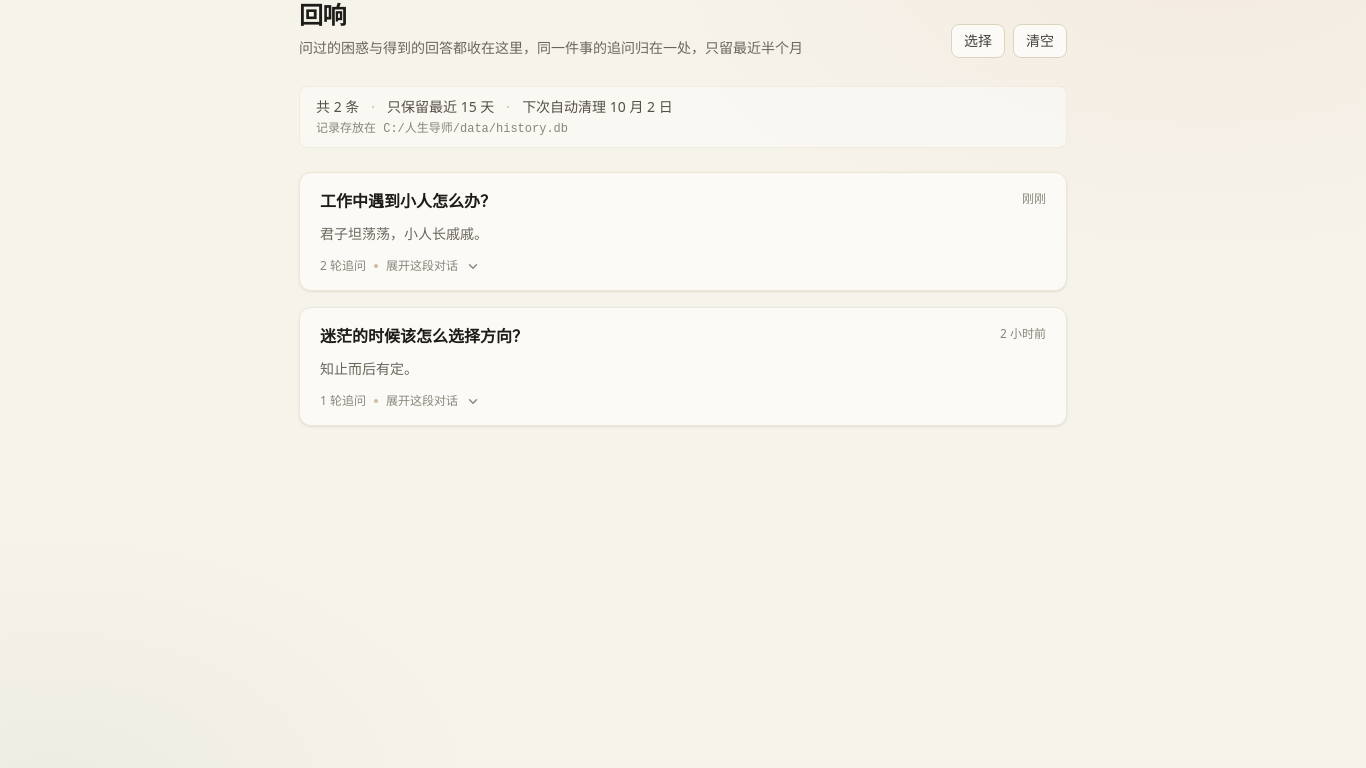
回响的勾选删除 › 删除前要确认，取消则不动
What coordinates should you click on to do the following:
click the button "选择"
I would click on:
 (978, 41)
Its box is top-left (951, 24), bottom-right (1005, 58).
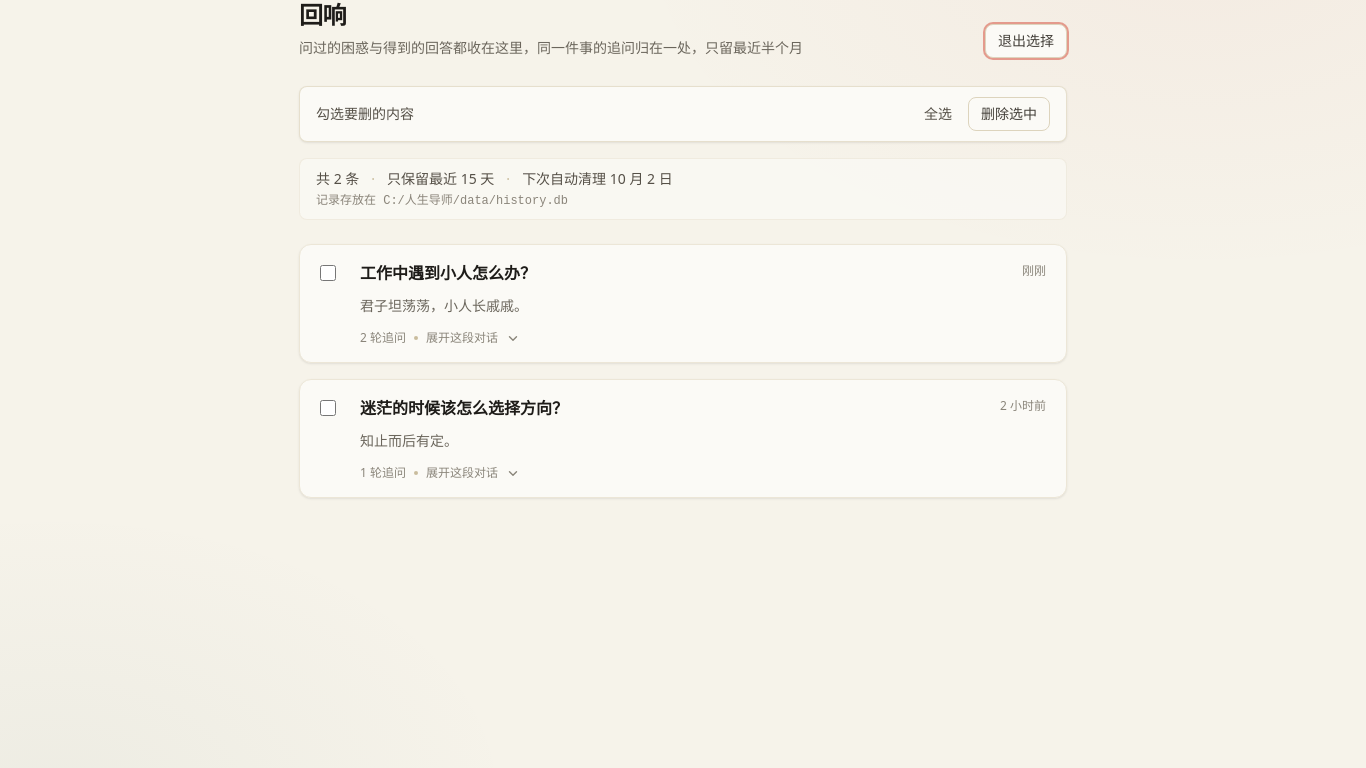
What coordinates should you click on to do the following:
click the checkbox named "勾选这段对话：工作中遇到小人怎么办？"
I would click on:
 (328, 273)
Its box is top-left (320, 265), bottom-right (336, 281).
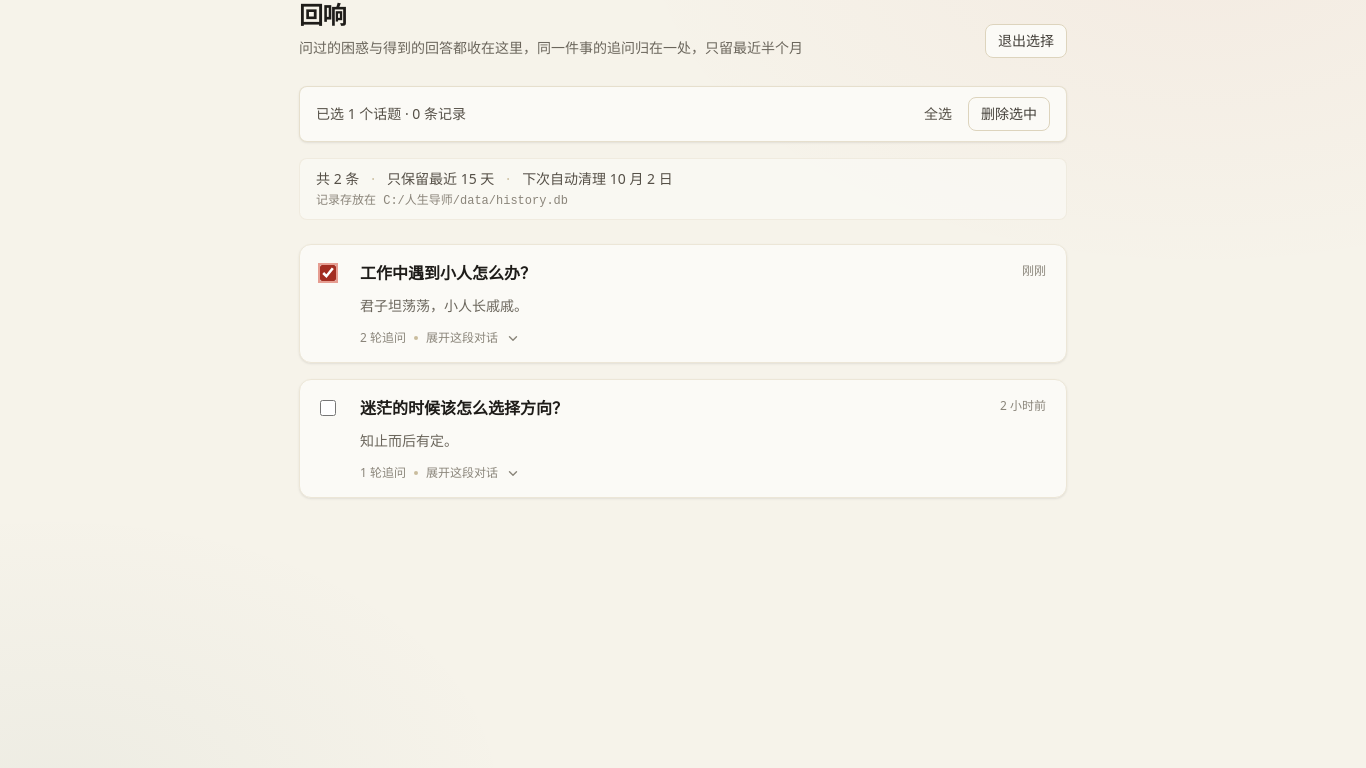
What coordinates should you click on to do the following:
click the button "删除选中"
I would click on:
 (1009, 114)
Its box is top-left (968, 97), bottom-right (1050, 131).
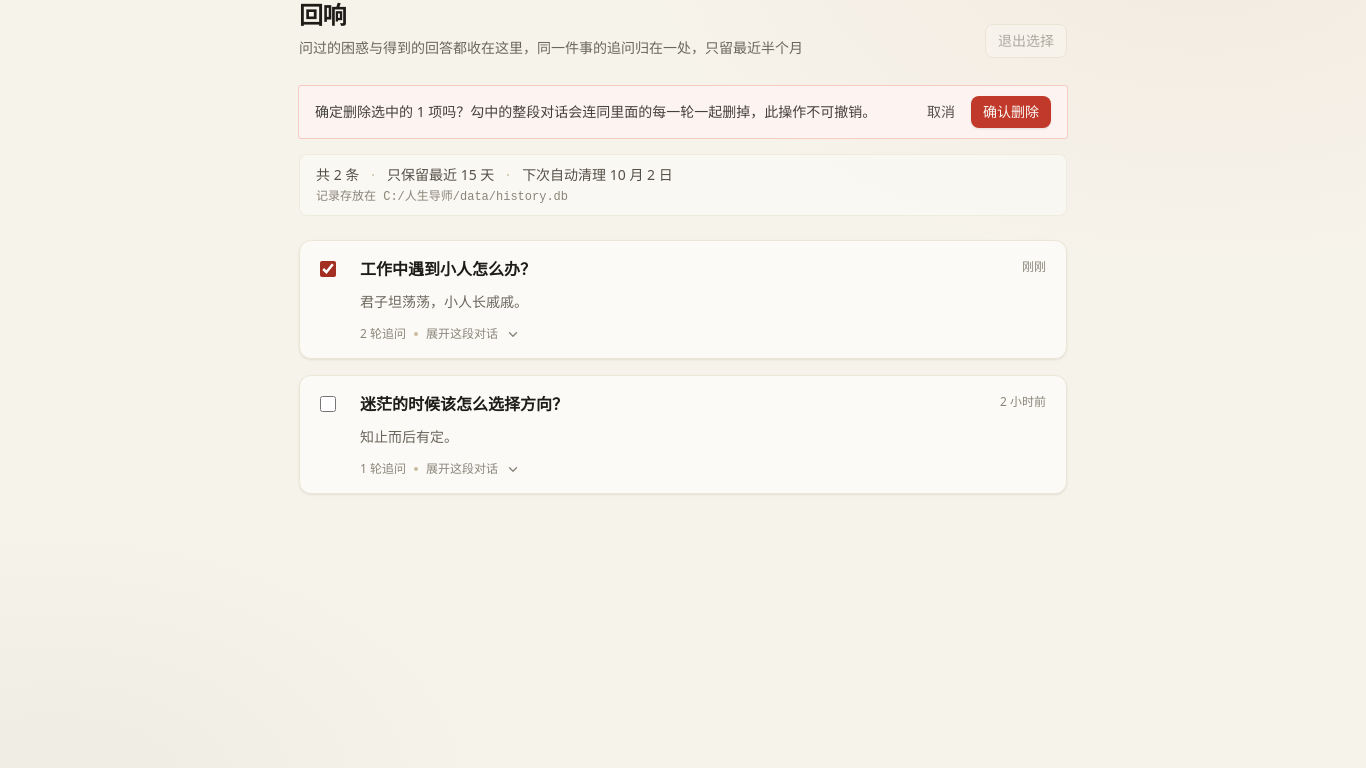
Expected: the dialog shows "确定删除选中的 1 项", top-left (315, 102), bottom-right (876, 121)
What coordinates should you click on to do the following:
click the button "取消"
I would click on:
 (941, 112)
Its box is top-left (915, 96), bottom-right (967, 128).
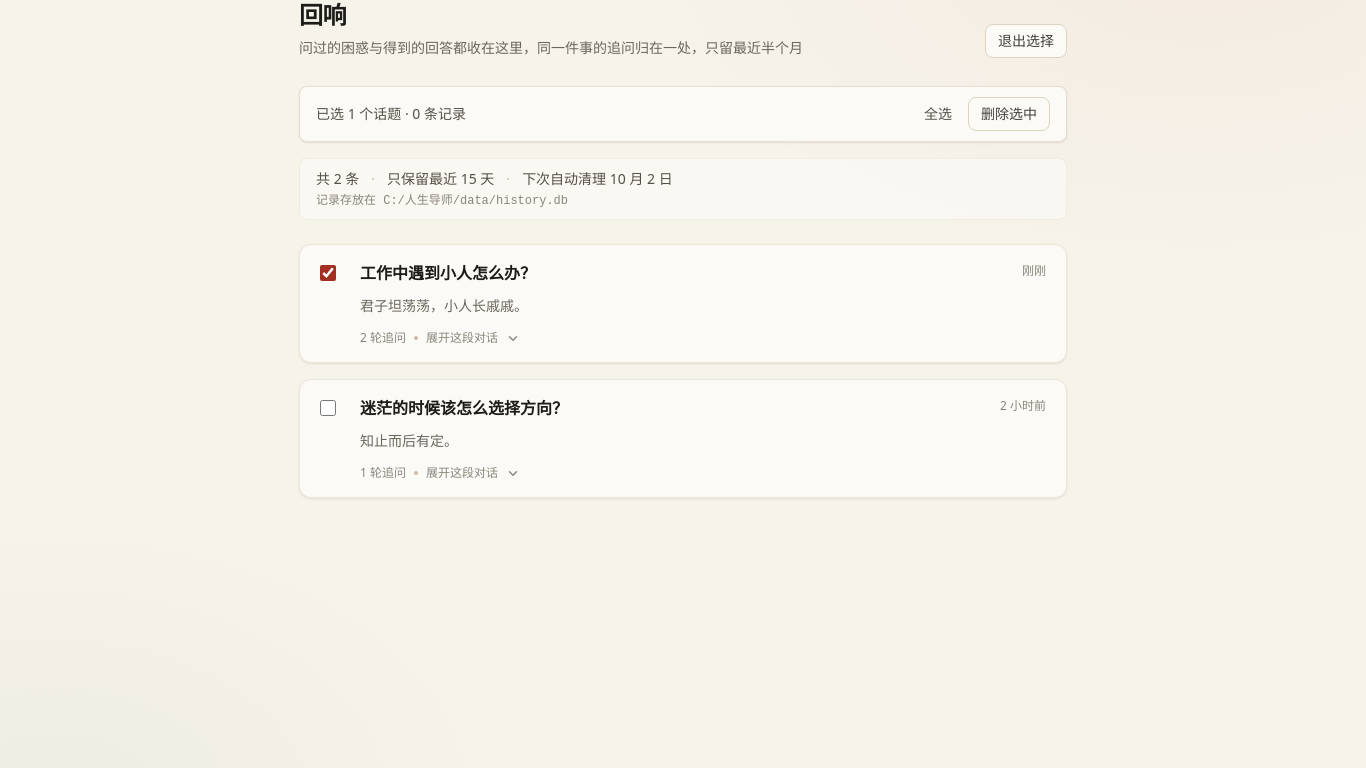
Expected: the text "已选 1 个话题 · 0 条记录" is shown, top-left (316, 104), bottom-right (466, 123)
